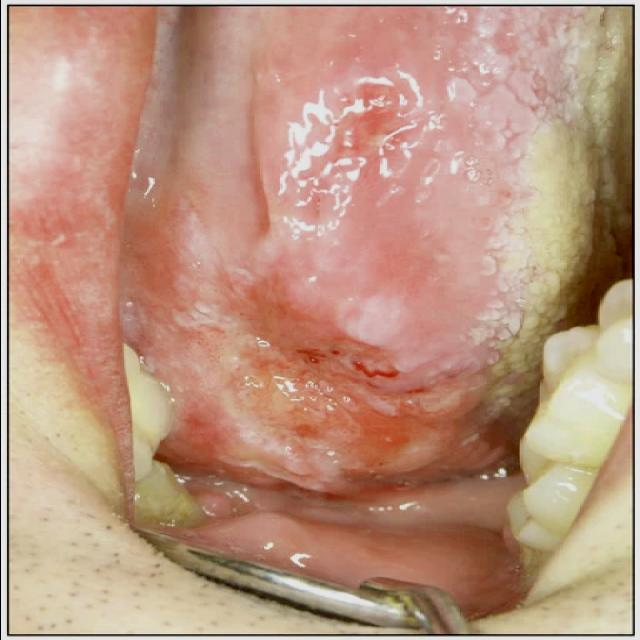Cancer: (175, 269, 426, 492), (266, 53, 434, 229)
